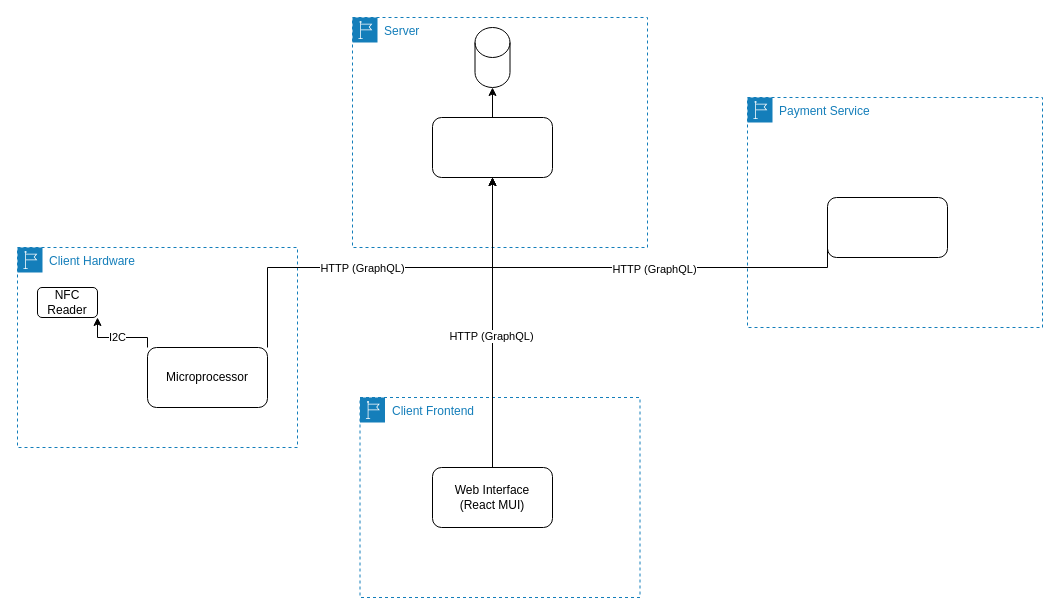
Some shapes in this 1060 by 615 pixel diagram are drawn without their labels. Here are the shapes that lost their labels. From the top down, the centre of each, then its label:
the point at 492,57: DB
the point at 492,147: Server (NestJS)
the point at 887,227: Payment Service (UNKNOWN)
